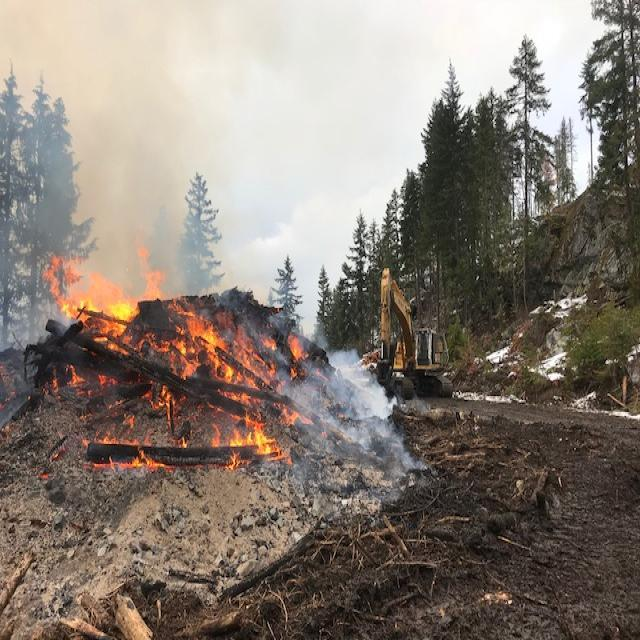Fire: (36, 241, 322, 482)
Smoke: (0, 0, 237, 333), (271, 312, 434, 532)
